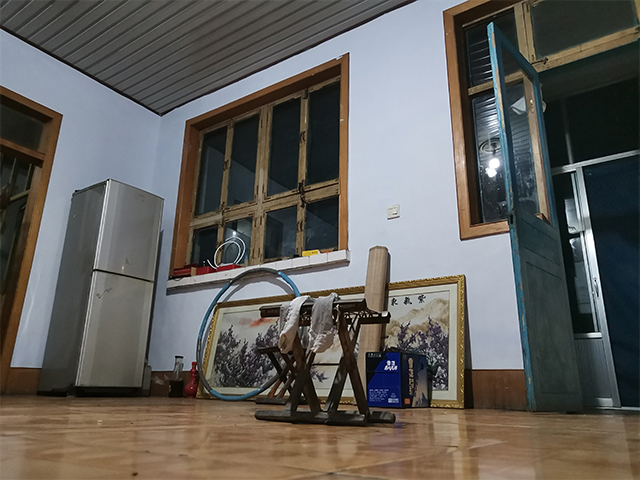stool: (253, 296, 398, 428), (251, 343, 312, 406)
